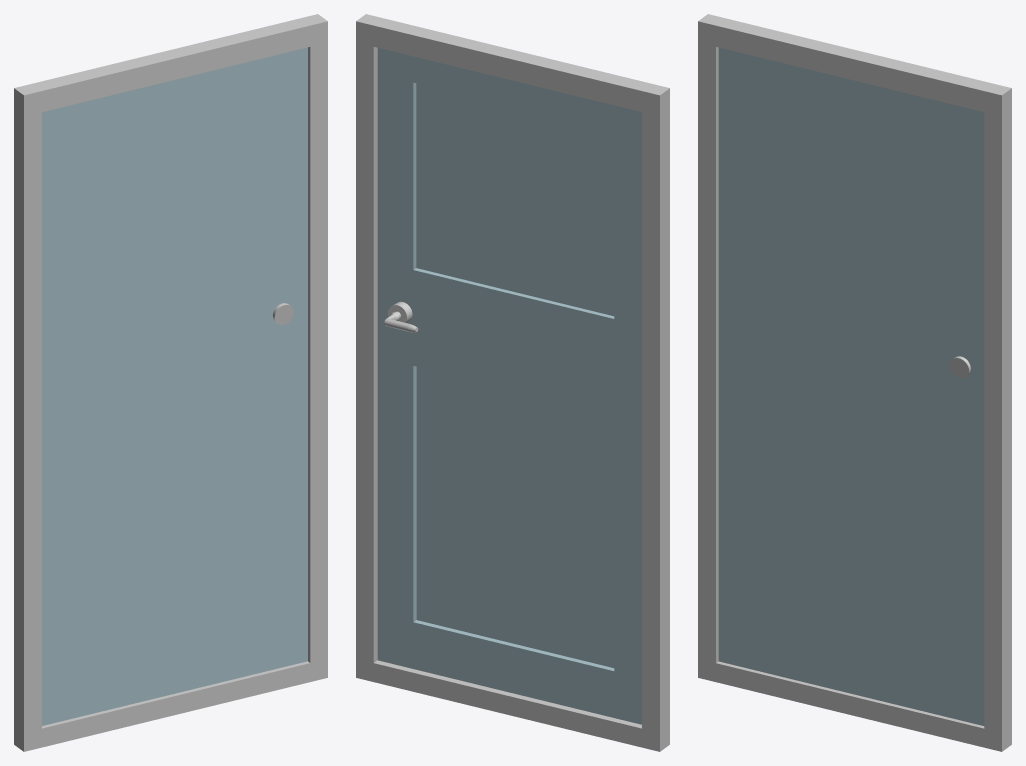
File: TÅrclosed.fbx
3 renders of one model, left to right at view 1: azimuth 30°, elevation 25°; view 2: azimuth 150°, elevation 25°; view 3: azimuth 330°, elevation 25°, orthographic.
Visible parts, largest first — view 1: Cube.001, Cube; view 2: Cube.001, Cube, Cylinder; view 3: Cube.001, Cube.
Part boxes in pixels (x1,y1,x2,y2): Cube.001: (42, 47, 307, 725); Cube: (14, 14, 327, 751); Cube.001: (377, 48, 641, 724); Cube: (356, 14, 669, 751); Cylinder: (384, 301, 418, 332); Cube.001: (718, 47, 984, 725); Cube: (698, 14, 1011, 751).
Bounding box in the file's own units: 111 × 229 × 16.38.
